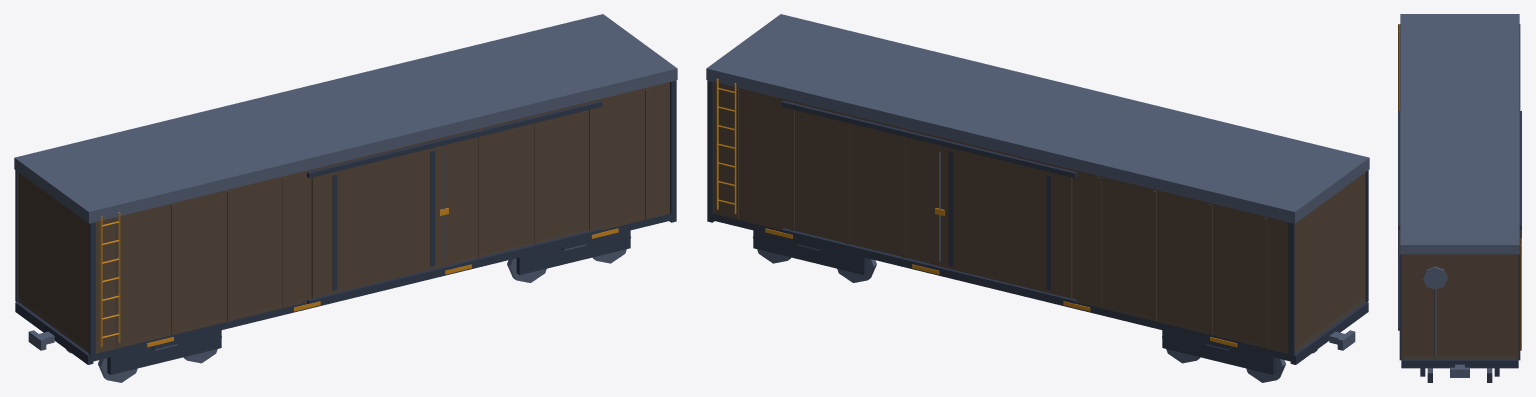
Rendered from port_freight_boxcar.glb.
The picture shows the model from 3 angles, left to right: view 1: azimuth 30°, elevation 25°; view 2: azimuth 150°, elevation 25°; view 3: azimuth 270°, elevation 25°; orthographic projection. The views are drawn at different scales.
Visible parts, largest first — view 1: body, roof, underframe, ladder, floor; view 2: body, roof, underframe, ladder, floor; view 3: roof, body, underframe, floor, ladder.
Part boxes in pixels (box(x1,y1,x2,y2)): body: box(18, 82, 669, 353); roof: box(14, 14, 677, 382); underframe: box(15, 80, 676, 374); ladder: box(100, 208, 618, 347); floor: box(18, 210, 667, 352); body: box(714, 82, 1365, 353); roof: box(706, 14, 1369, 382); underframe: box(707, 80, 1368, 374); ladder: box(716, 78, 1237, 347); floor: box(756, 223, 1365, 353); roof: box(1398, 14, 1521, 382); body: box(1399, 229, 1520, 359); underframe: box(1398, 24, 1521, 376); floor: box(1401, 355, 1518, 359); ladder: box(1398, 24, 1521, 350).
Size of the model in its own units: 14 by 4.2 by 3.
